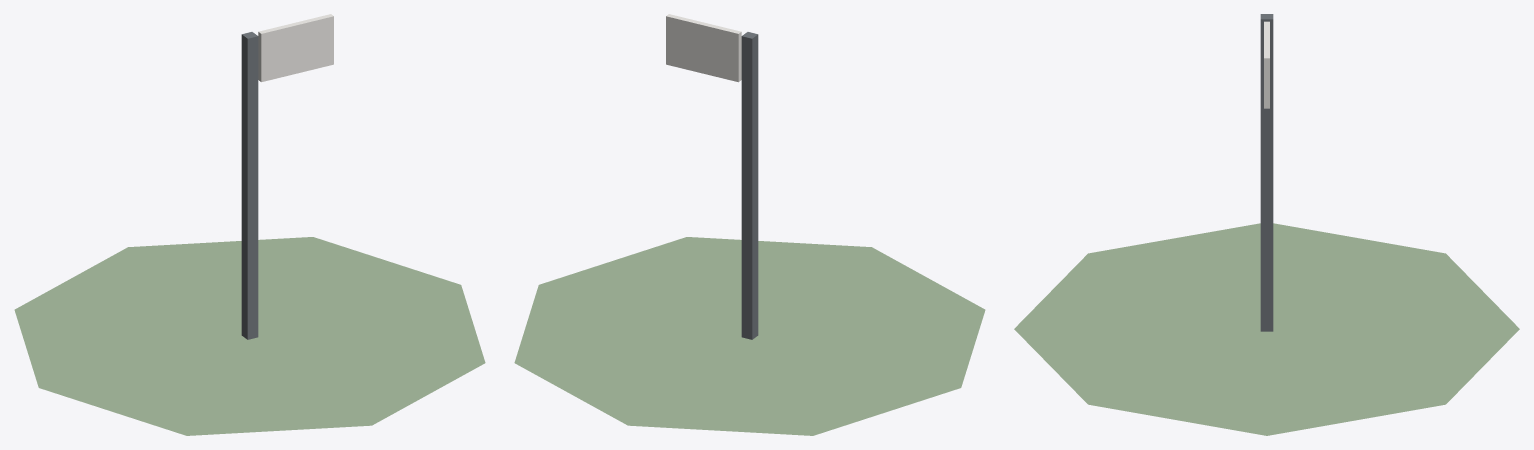
Rendered from golf-area.glb.
3 views of the same model, side by side, from view 1: azimuth 30°, elevation 25°; view 2: azimuth 150°, elevation 25°; view 3: azimuth 270°, elevation 25° (orthographic). The views are drawn at different scales.
Parts seen in each view (by area): view 1: spatial-root; view 2: spatial-root; view 3: spatial-root.
Boxes of the visible parts, x1=… form: spatial-root: x1=14, y1=14, x2=485, y2=435; spatial-root: x1=514, y1=14, x2=985, y2=435; spatial-root: x1=1014, y1=14, x2=1519, y2=435.
Size of the model in its own units: 3.2 by 2.2 by 3.2.
